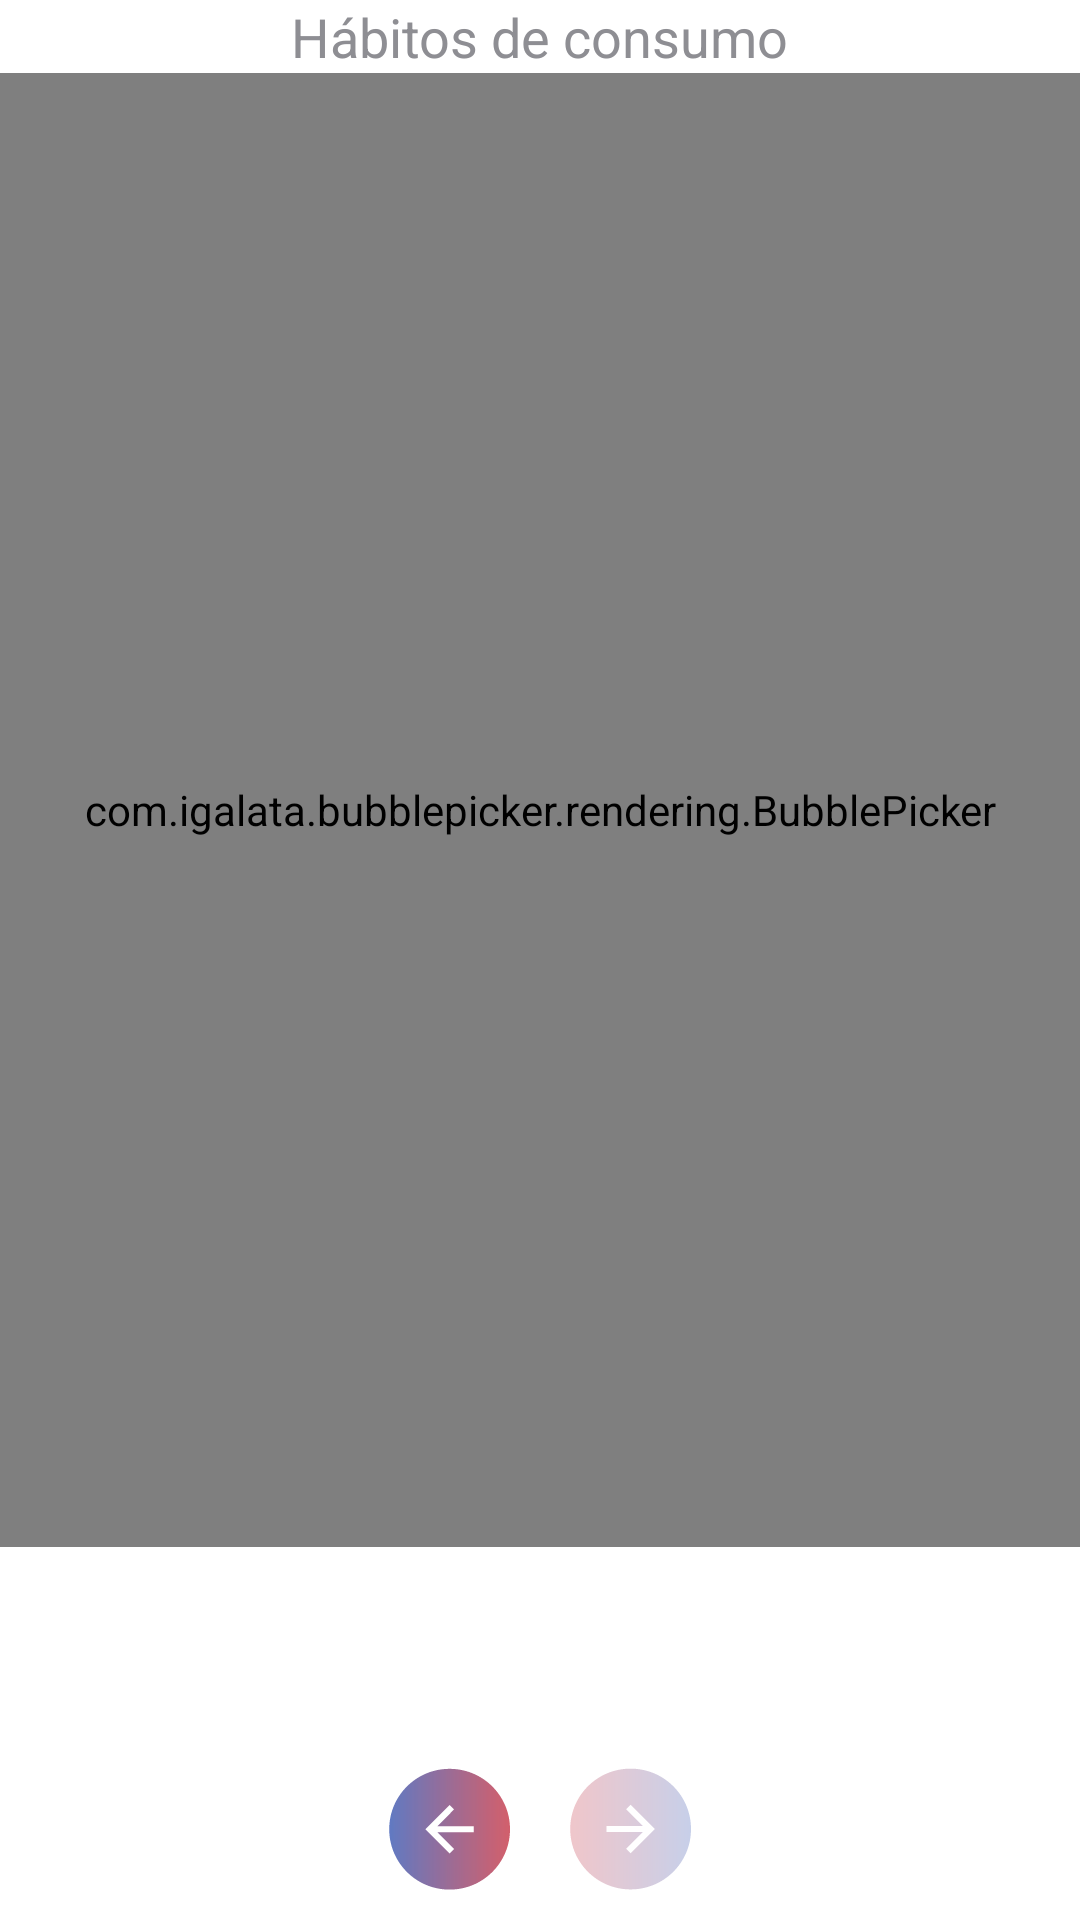

Icons on this 1080w x 1920h Android screen, each with its box as {"left": x1, "top": y1, "right": x2, "bottom": y2}:
back shining: {"left": 389, "top": 1768, "right": 510, "bottom": 1890}
next: {"left": 570, "top": 1769, "right": 691, "bottom": 1890}
